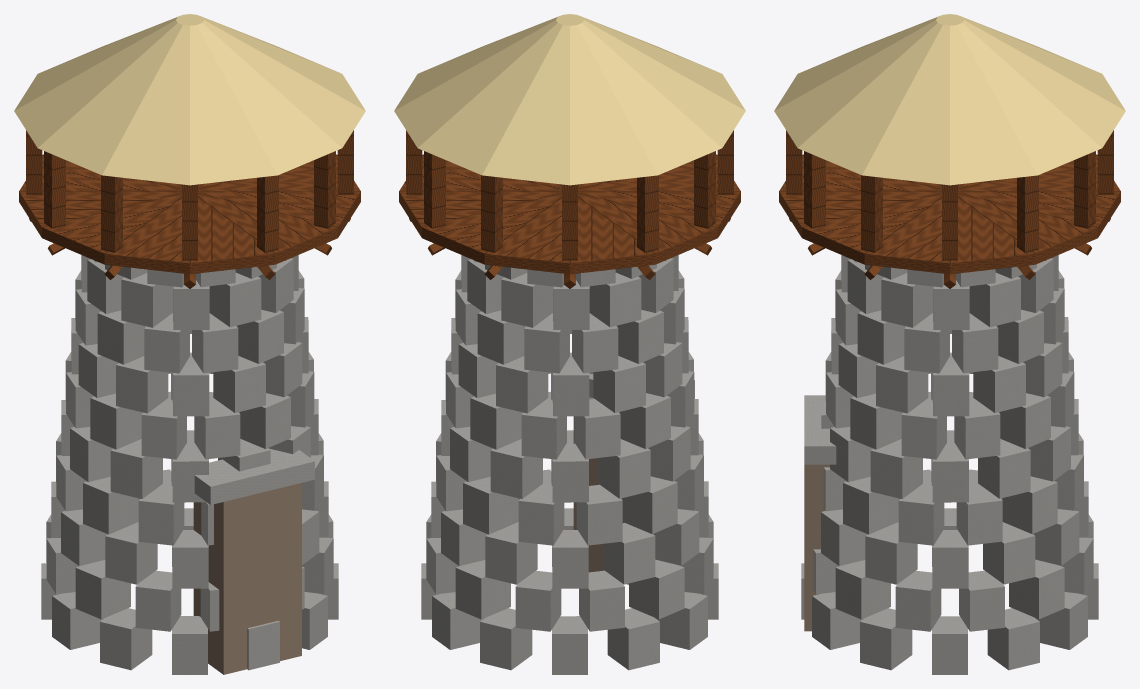
Rendered from andean-terraces-and-stone-village-lookout-tower-6712ac07__38250.glb.
The picture shows the model from 3 angles, left to right: view 1: azimuth 30°, elevation 25°; view 2: azimuth 150°, elevation 25°; view 3: azimuth 270°, elevation 25°; orthographic projection.
Parts seen in each view (by area): view 1: lookout-tower-stone, lookout-tower-thatch, lookout-tower-timber, lookout-tower-earth; view 2: lookout-tower-stone, lookout-tower-thatch, lookout-tower-timber, lookout-tower-earth; view 3: lookout-tower-stone, lookout-tower-thatch, lookout-tower-timber, lookout-tower-earth.
Boxes of the visible parts, <box> form: lookout-tower-stone: <box>41,255,338,674</box>; lookout-tower-thatch: <box>14,14,365,185</box>; lookout-tower-timber: <box>19,130,360,288</box>; lookout-tower-earth: <box>193,483,301,674</box>; lookout-tower-stone: <box>421,255,718,674</box>; lookout-tower-thatch: <box>394,14,745,185</box>; lookout-tower-timber: <box>399,130,740,288</box>; lookout-tower-earth: <box>573,397,628,584</box>; lookout-tower-stone: <box>801,255,1098,674</box>; lookout-tower-thatch: <box>774,14,1125,185</box>; lookout-tower-timber: <box>779,130,1120,288</box>; lookout-tower-earth: <box>804,464,829,631</box>.
Size of the model in its own units: 3.5 by 6.5 by 3.5.
4 materials, 2 textured.
